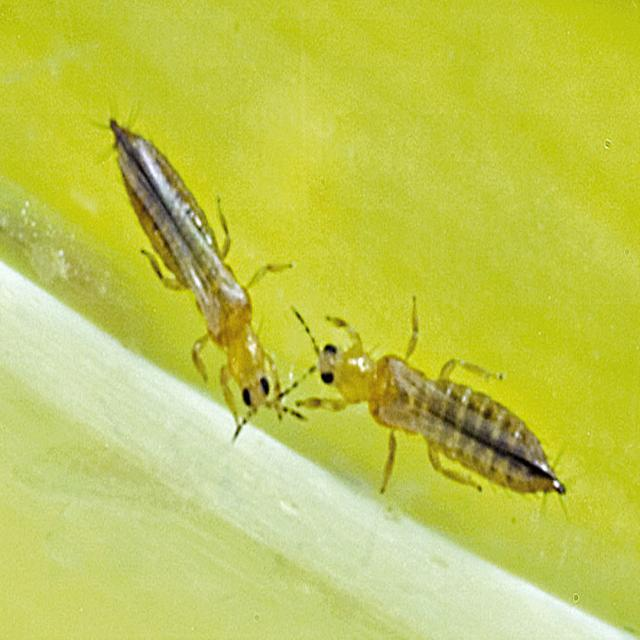Thrip-Adult-: (297, 266, 578, 526), (103, 110, 294, 426)
